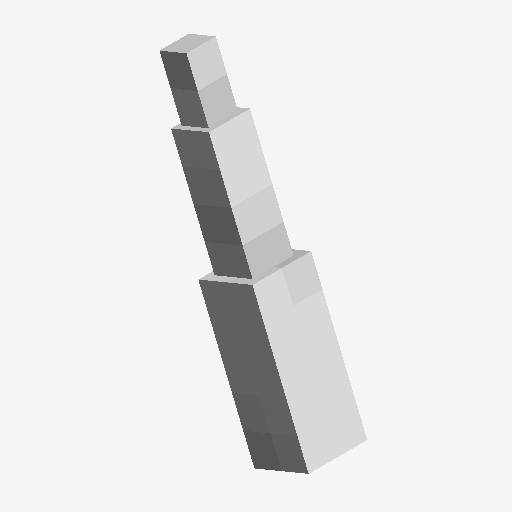
Isometric view (azimuth 45°, elevation 35.3°) of a Minecraft model made of 3 cuboids, textured from the same repository.
Parts seen in each view (by area): element 1, element 2, element 3.
Boxes of the visible parts, x1=… form: element 1: x1=198, y1=249, x2=366, y2=473; element 2: x1=171, y1=107, x2=292, y2=278; element 3: x1=160, y1=34, x2=237, y2=127.
Bounding box in the file's own units: 2 × 10.6 × 5.59.